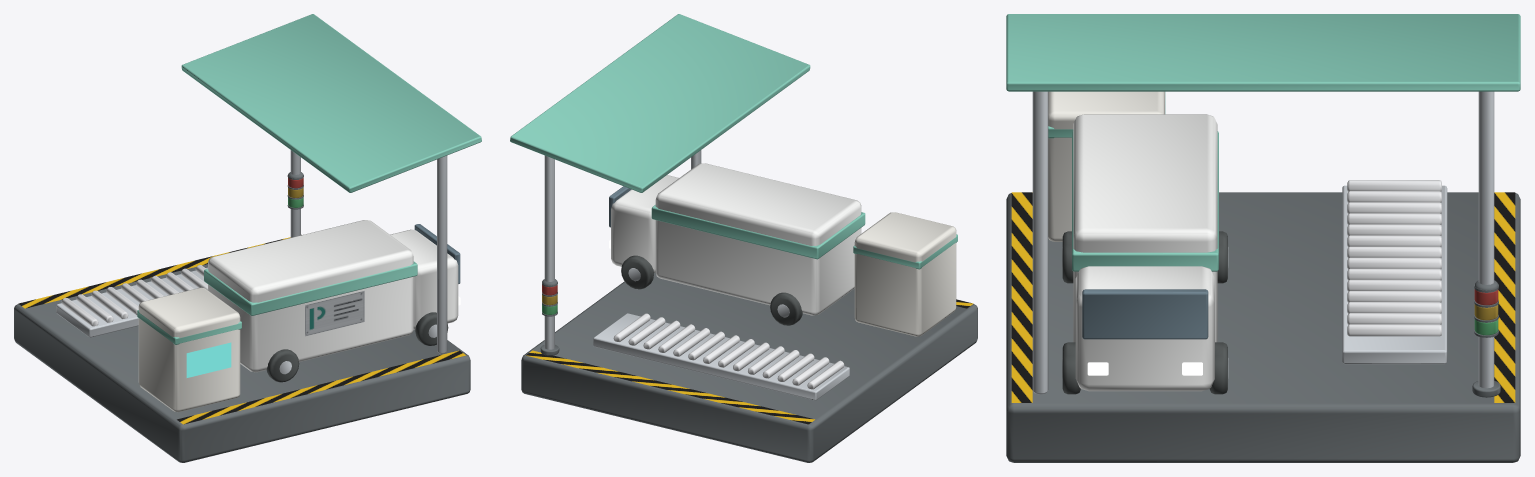
File: hub.glb
The picture shows the model from 3 angles, left to right: view 1: azimuth 30°, elevation 25°; view 2: azimuth 150°, elevation 25°; view 3: azimuth 270°, elevation 25°; orthographic projection. The views are drawn at different scales.
Parts seen in each view (by area): view 1: anden, marquesina, van_caja, caseta, van_cabina, van_franja, marquesina_poste-1, franja-1, rampa_bastidor, van_logo, franja1, pantalla (+4 smaller); view 2: anden, marquesina, van_caja, caseta, rampa_bastidor, van_cabina, van_franja, franja1, marquesina_poste1, van_rueda0.651, van_rueda-0.351, caseta_franja; view 3: anden, marquesina, van_caja, van_cabina, van_parabrisas, caseta, marquesina_poste-1, rampa_bastidor, franja-1, franja1, marquesina_poste1, van_franja (+17 smaller).
Boxes of the visible parts, x1,y1,x2,y2 form: anden: (14,264,470,462); marquesina: (181,14,481,192); van_caja: (208,220,413,372); caseta: (138,287,240,412); van_cabina: (390,229,458,329); van_franja: (204,261,417,315); marquesina_poste-1: (437,155,447,353); franja-1: (177,350,465,424); rampa_bastidor: (56,267,207,337); van_logo: (305,291,364,336); franja1: (18,234,301,308); pantalla: (186,342,231,377); anden: (521,273,977,462); marquesina: (510,14,810,192); van_caja: (655,163,861,315); caseta: (854,212,956,336); rampa_bastidor: (593,313,849,400); van_cabina: (611,175,678,273); van_franja: (651,205,865,259); franja1: (526,350,814,424); marquesina_poste1: (544,155,554,349); van_rueda0.651: (621,255,653,289); van_rueda-0.351: (770,292,802,325); caseta_franja: (853,234,957,269); anden: (1006,192,1520,462); marquesina: (1006,14,1520,91); van_caja: (1073,114,1217,342); van_cabina: (1075,266,1214,391); van_parabrisas: (1082,289,1208,339); caseta: (1048,91,1164,241); marquesina_poste-1: (1032,91,1048,394); rampa_bastidor: (1342,185,1447,364); franja-1: (1011,192,1032,402); franja1: (1494,192,1515,402); marquesina_poste1: (1478,91,1494,388); van_franja: (1072,131,1218,271).
Size of the model in its own units: 2.06 by 1.64 by 1.96.
15 materials, 2 textured.
